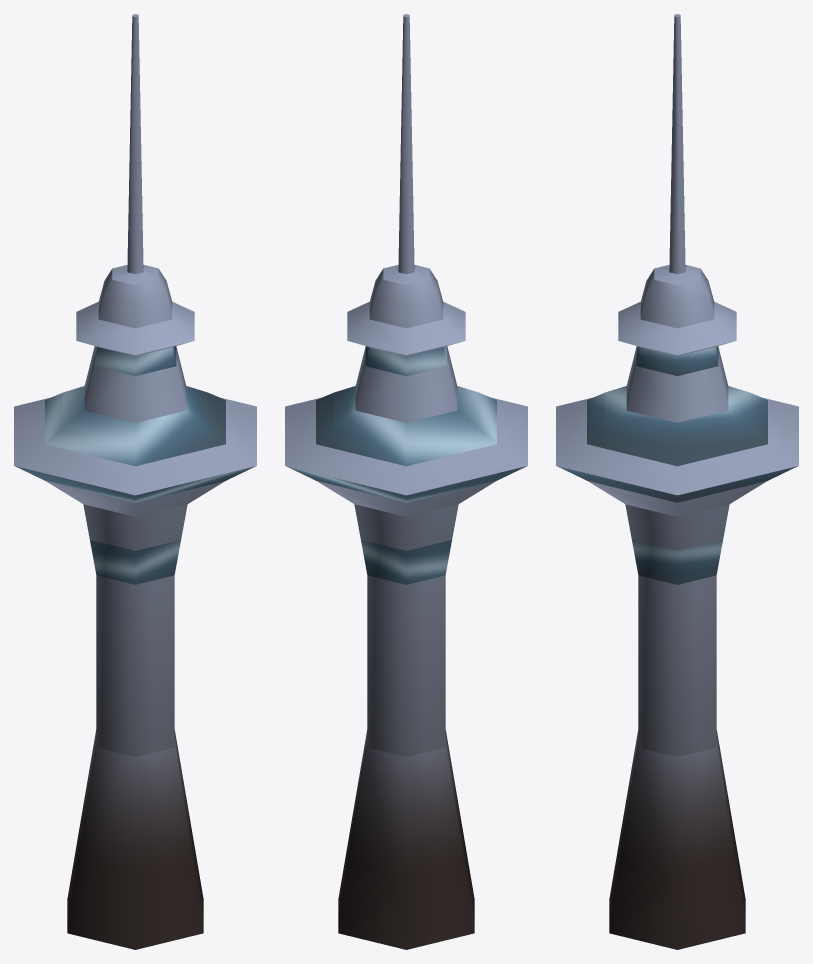
File: skytower.fbx
3 renders of one model, left to right at view 1: azimuth 30°, elevation 25°; view 2: azimuth 150°, elevation 25°; view 3: azimuth 270°, elevation 25°, orthographic.
Visible parts, largest first — view 1: polySurface22; view 2: polySurface22; view 3: polySurface22.
Part boxes in pixels (x1,y1,x2,y2): polySurface22: (14, 14, 256, 949); polySurface22: (285, 14, 527, 949); polySurface22: (556, 14, 798, 949).
Bounding box in the file's own units: 124 × 439 × 107.
